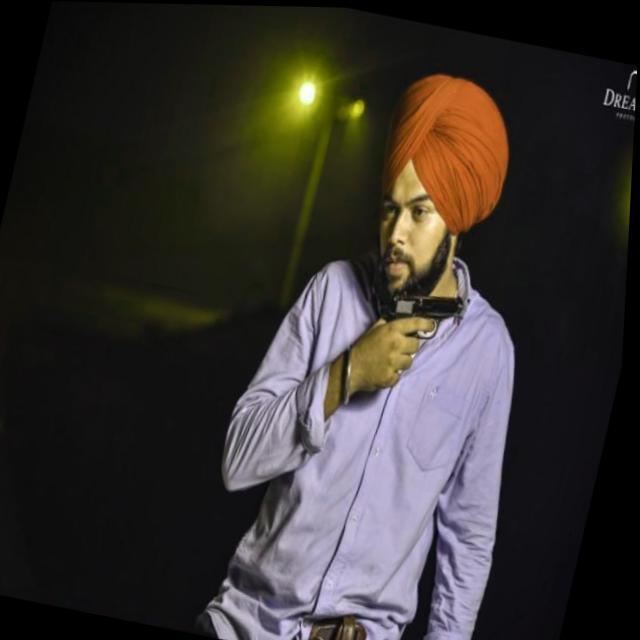weapon: (364, 274, 472, 397)
